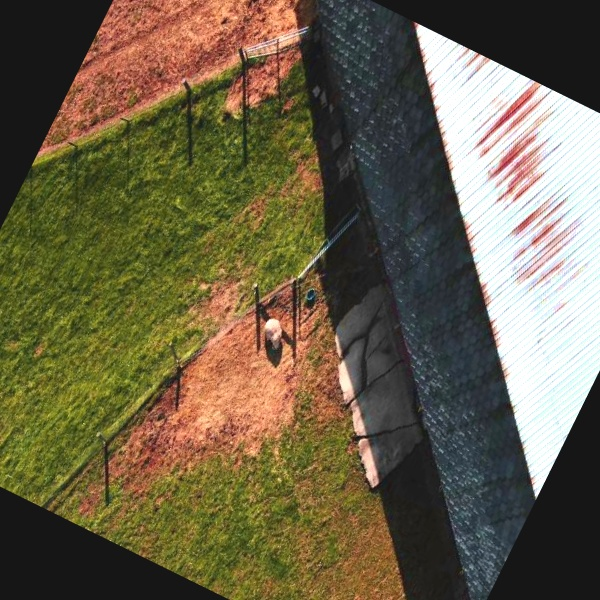sheep: (252, 310, 297, 358)
